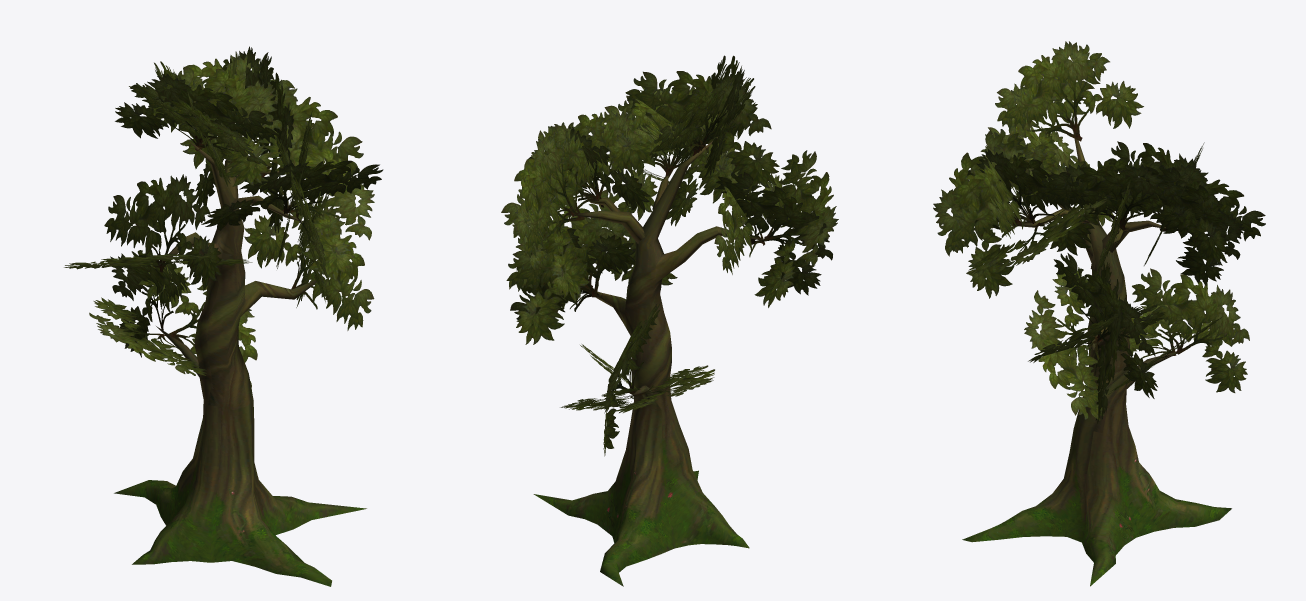
The model's file is environment_Tree_Green_006_a.FBX.
3 views of the same model, side by side, from view 1: azimuth 30°, elevation 25°; view 2: azimuth 150°, elevation 25°; view 3: azimuth 270°, elevation 25° (orthographic). The views are drawn at different scales.
Parts seen in each view (by area): view 1: DrawCall_0012, DrawCall_0078; view 2: DrawCall_0012, DrawCall_0078; view 3: DrawCall_0012, DrawCall_0078.
Boxes of the visible parts, box(x1,y1,x2,y2) form: DrawCall_0012: box(64, 46, 383, 390); DrawCall_0078: box(114, 139, 366, 586); DrawCall_0012: box(501, 55, 838, 456); DrawCall_0078: box(533, 137, 767, 586); DrawCall_0012: box(933, 41, 1265, 423); DrawCall_0078: box(962, 118, 1231, 586).
Size of the model in its own units: 328 by 427 by 308.
